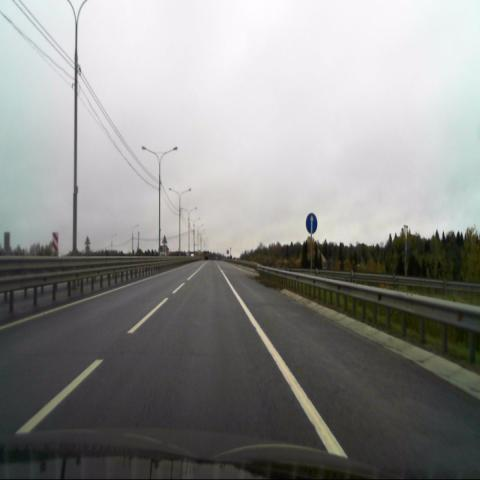4_1_1: (305, 214, 317, 234)
